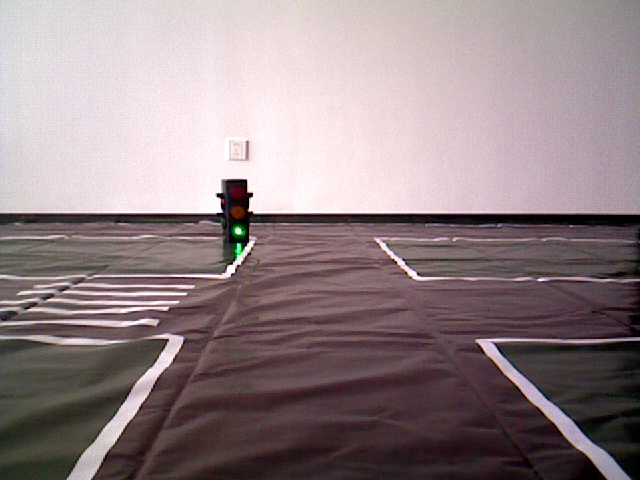green: (219, 181, 248, 236)
